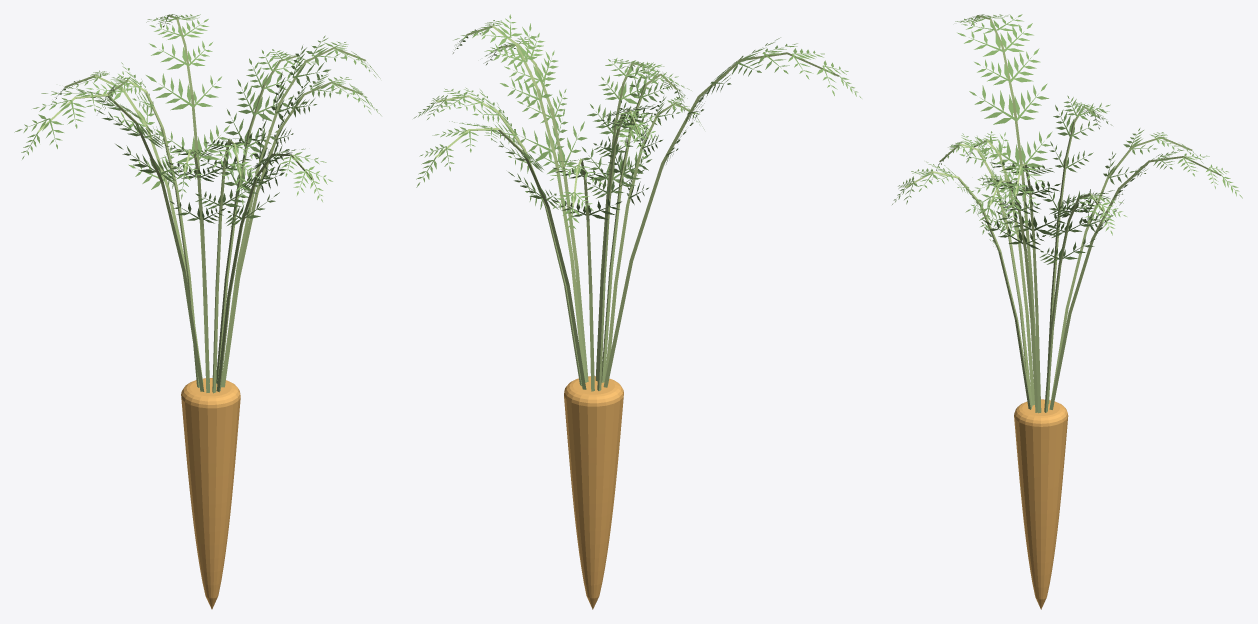
The model's file is carrot_v08.glb.
3 renders of one model, left to right at view 1: azimuth 30°, elevation 25°; view 2: azimuth 150°, elevation 25°; view 3: azimuth 270°, elevation 25°, orthographic. The views are drawn at different scales.
Visible parts, largest first — view 1: leaves, petioles, root; view 2: leaves, petioles, root; view 3: leaves, petioles, root.
Boxes of the visible parts, left/top/right/bottom form: leaves: left=14, top=14, right=381, bottom=226; petioles: left=37, top=14, right=365, bottom=393; root: left=181, top=378, right=240, bottom=609; leaves: left=413, top=14, right=861, bottom=234; petioles: left=435, top=25, right=839, bottom=391; root: left=564, top=376, right=623, bottom=609; leaves: left=892, top=14, right=1242, bottom=264; petioles: left=905, top=15, right=1221, bottom=413; root: left=1014, top=399, right=1068, bottom=609.
Bounding box in the file's own units: 0.2919 × 0.4155 × 0.2559.
